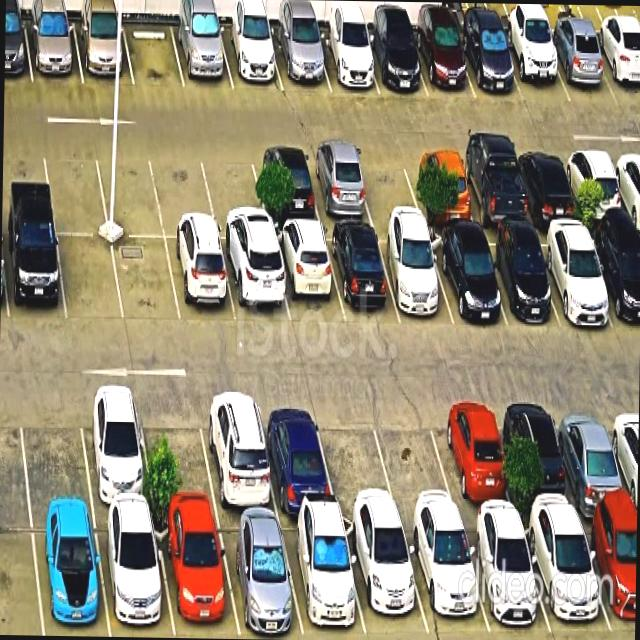car: (520, 516, 612, 640), (215, 514, 303, 637), (279, 516, 366, 640), (153, 513, 239, 636), (461, 517, 551, 634), (342, 516, 429, 636), (401, 517, 489, 633), (432, 397, 516, 517), (94, 511, 174, 635), (30, 511, 108, 636), (198, 391, 277, 513), (552, 397, 633, 515), (501, 396, 579, 516), (256, 395, 336, 512), (77, 389, 153, 510), (533, 227, 615, 325), (477, 231, 558, 325), (427, 231, 507, 326), (375, 229, 453, 325), (271, 227, 344, 325), (579, 513, 637, 635), (324, 228, 399, 322), (165, 238, 236, 323), (219, 241, 290, 324), (2, 228, 65, 321), (585, 226, 640, 332), (456, 149, 530, 225), (250, 148, 321, 223), (405, 149, 476, 223), (543, 31, 616, 102), (304, 148, 373, 222), (500, 32, 570, 103), (512, 148, 580, 221), (561, 148, 627, 221), (457, 28, 523, 100), (411, 27, 475, 97), (362, 30, 427, 96), (218, 25, 283, 90), (171, 22, 233, 90), (314, 30, 378, 93), (73, 20, 133, 84), (24, 20, 83, 83), (270, 29, 330, 90), (591, 34, 640, 103)
free: (370, 397, 459, 516), (314, 398, 398, 515), (137, 391, 217, 512), (17, 389, 92, 509), (199, 147, 269, 239), (94, 145, 164, 236), (150, 146, 217, 237), (112, 236, 180, 324), (42, 143, 108, 233), (57, 234, 123, 321), (352, 148, 422, 221), (122, 21, 184, 87)
